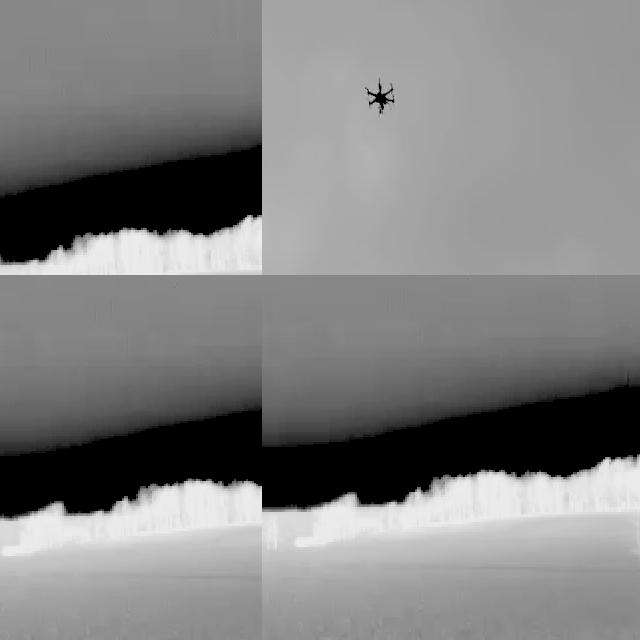drone: (364, 67, 401, 120)
